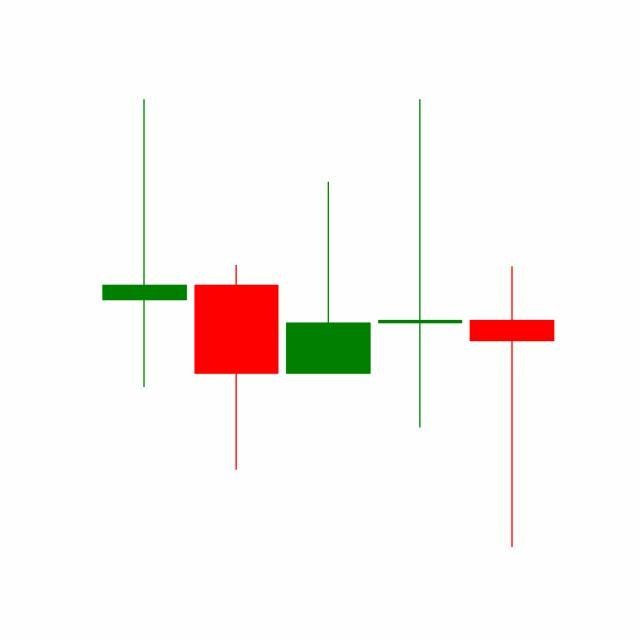Spinning Top: (374, 96, 468, 433)
